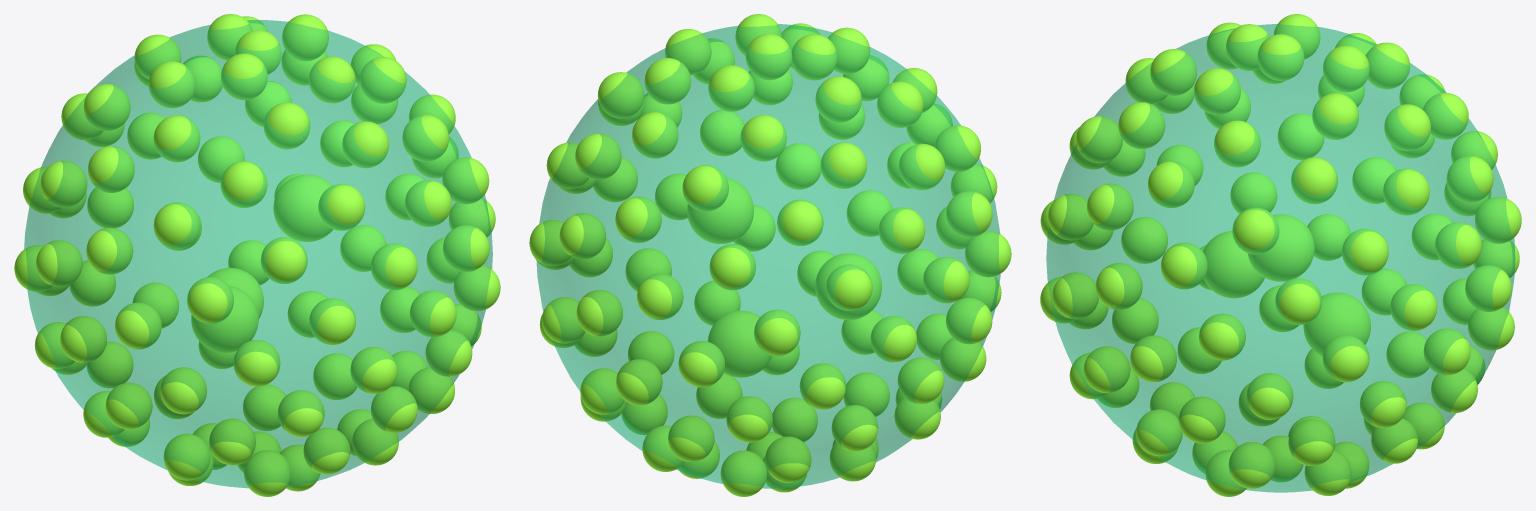
Rendered from volvox.glb.
3 views of the same model, side by side, from view 1: azimuth 30°, elevation 25°; view 2: azimuth 150°, elevation 25°; view 3: azimuth 270°, elevation 25° (orthographic).
Parts seen in each view (by area): view 1: shell, cell (×78), daughter (×3); view 2: shell, cell (×80), daughter (×3); view 3: shell, cell (×77), daughter (×3).
Boxes of the visible parts, x1,y1,x2,y2 form: shell: [24, 20, 492, 488]; cell (×78): [14, 14, 500, 496]; daughter (×3): [191, 174, 332, 352]; shell: [536, 24, 1000, 488]; cell (×80): [529, 14, 1011, 496]; daughter (×3): [687, 178, 882, 377]; shell: [1046, 24, 1515, 492]; cell (×77): [1040, 14, 1521, 496]; daughter (×3): [1203, 214, 1370, 356].
Size of the model in its own units: 0.2558 by 0.261 by 0.2566.
